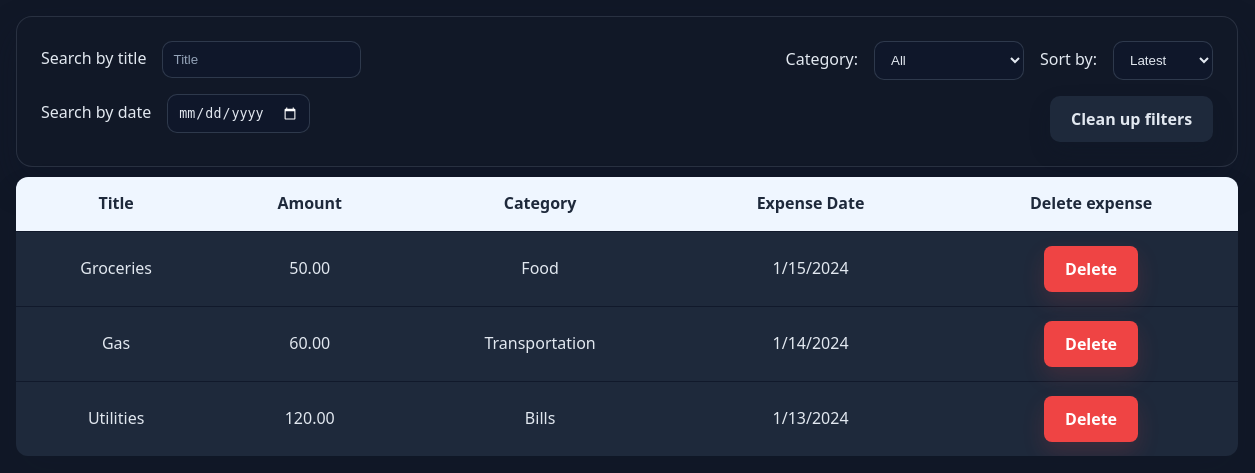
Scenario: ExpensesView Component › should search expenses by date
This screenshot has width=1255, height=473.
In the date field: (238, 114) [167,94,310,133], type "2024-01-15"
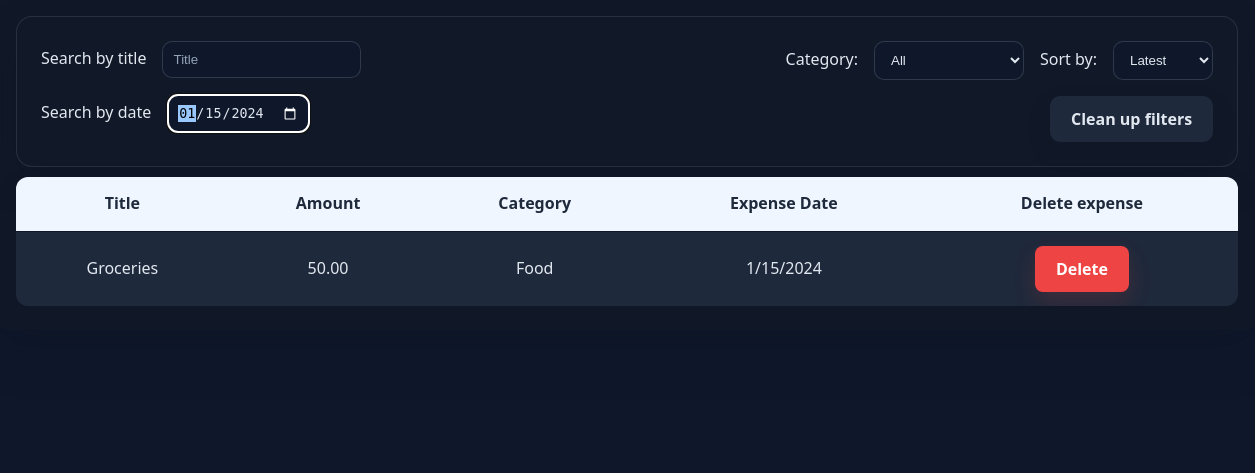
Now the number of rows is 2, box [16,177,1238,231]; [16,231,1238,306]
